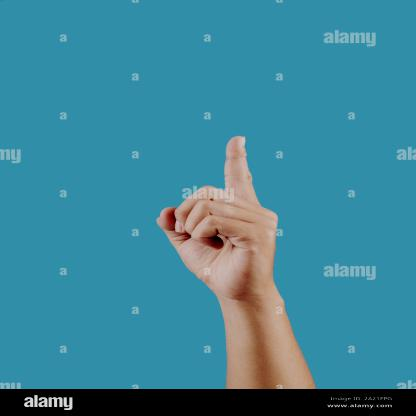Up: (148, 121, 309, 284)
